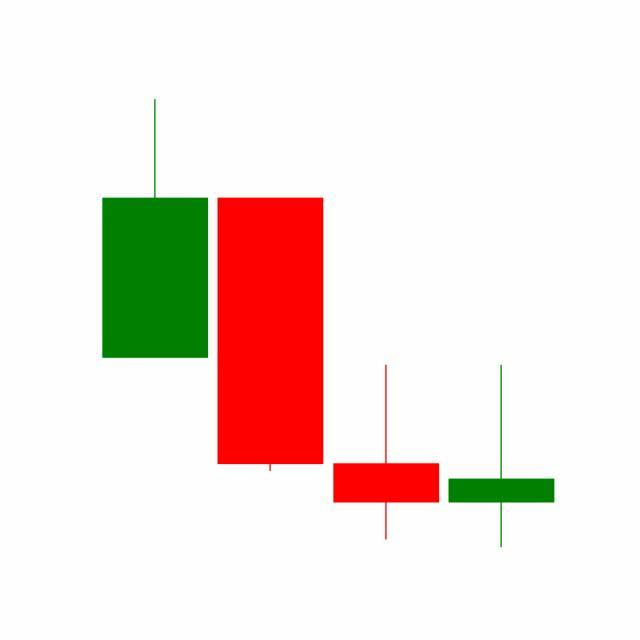Spinning Top: (444, 363, 560, 550)
